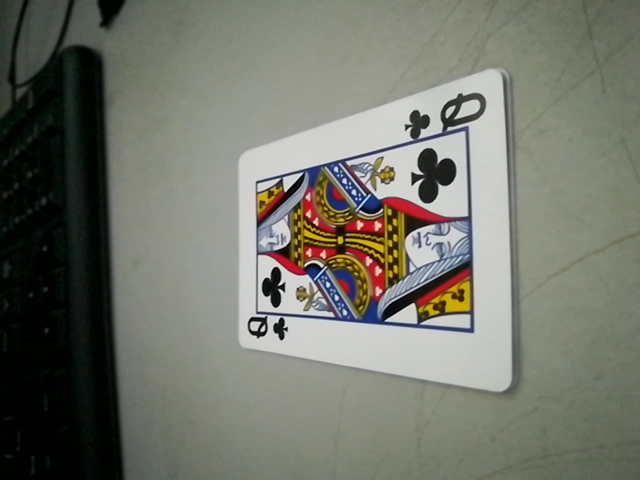mh j: (403, 88, 492, 143), (241, 308, 295, 349)
